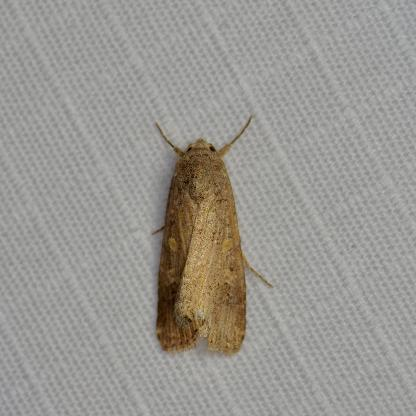Fall Armyworm Moth: (149, 113, 277, 357)
